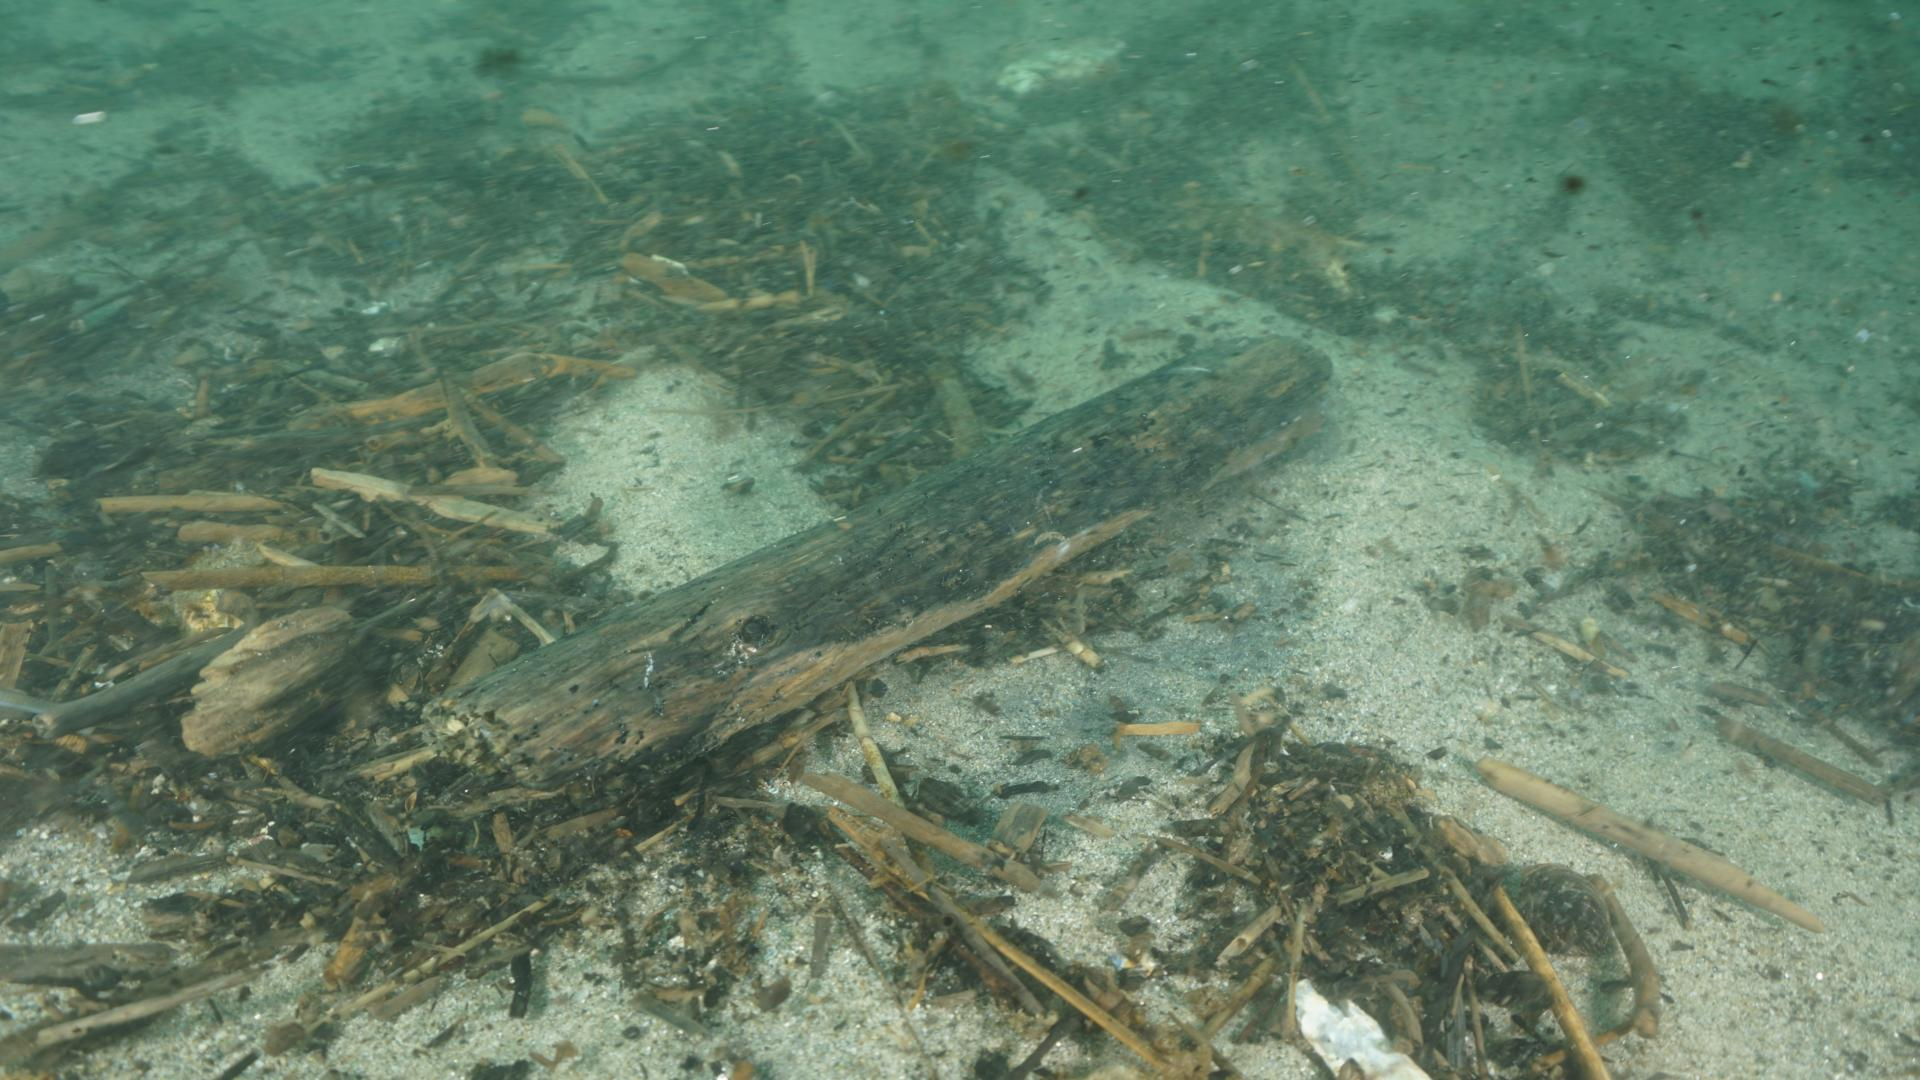wood: (440, 328, 1335, 814)
